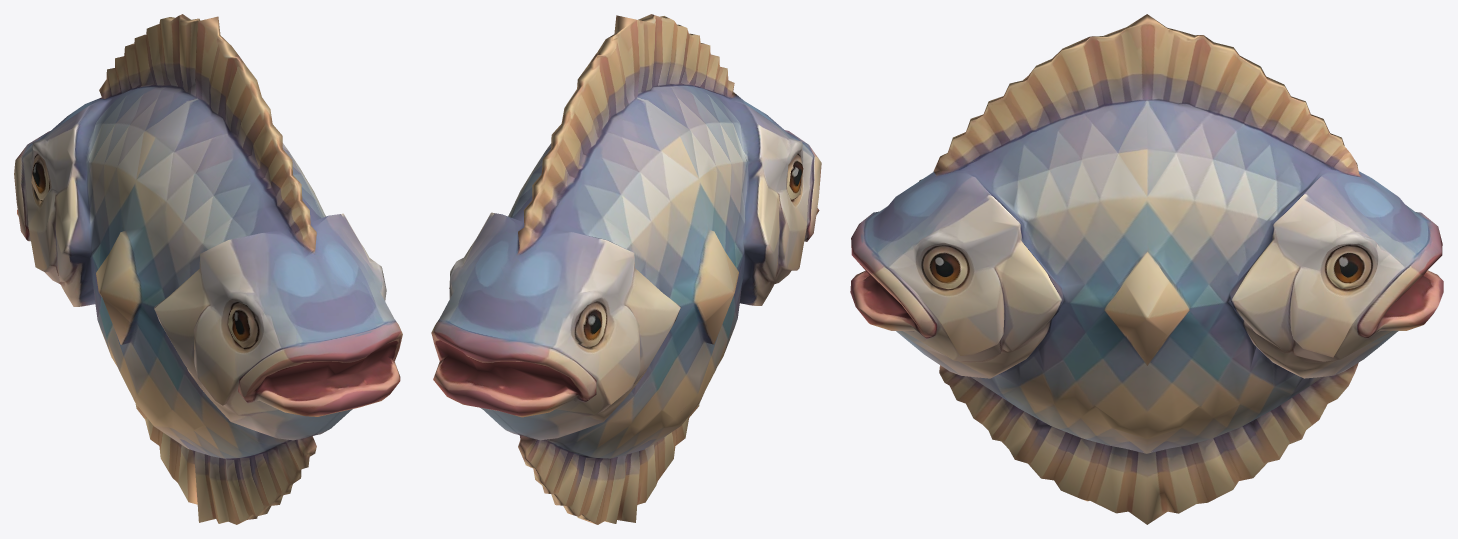
Rendered from twofold-flounder.glb.
The picture shows the model from 3 angles, left to right: view 1: azimuth 30°, elevation 25°; view 2: azimuth 150°, elevation 25°; view 3: azimuth 270°, elevation 25°; orthographic projection.
Parts seen in each view (by area): view 1: tripo_node_d06d2877-1890-4184-8443-752e4f883f80; view 2: tripo_node_d06d2877-1890-4184-8443-752e4f883f80; view 3: tripo_node_d06d2877-1890-4184-8443-752e4f883f80.
Part boxes in pixels (box(x1,y1,x2,y2)): tripo_node_d06d2877-1890-4184-8443-752e4f883f80: box(14, 14, 402, 524); tripo_node_d06d2877-1890-4184-8443-752e4f883f80: box(431, 14, 821, 524); tripo_node_d06d2877-1890-4184-8443-752e4f883f80: box(850, 14, 1443, 524).
Bounding box in the file's own units: 0.4236 × 0.9328 × 1.
1 material, 1 textured.
